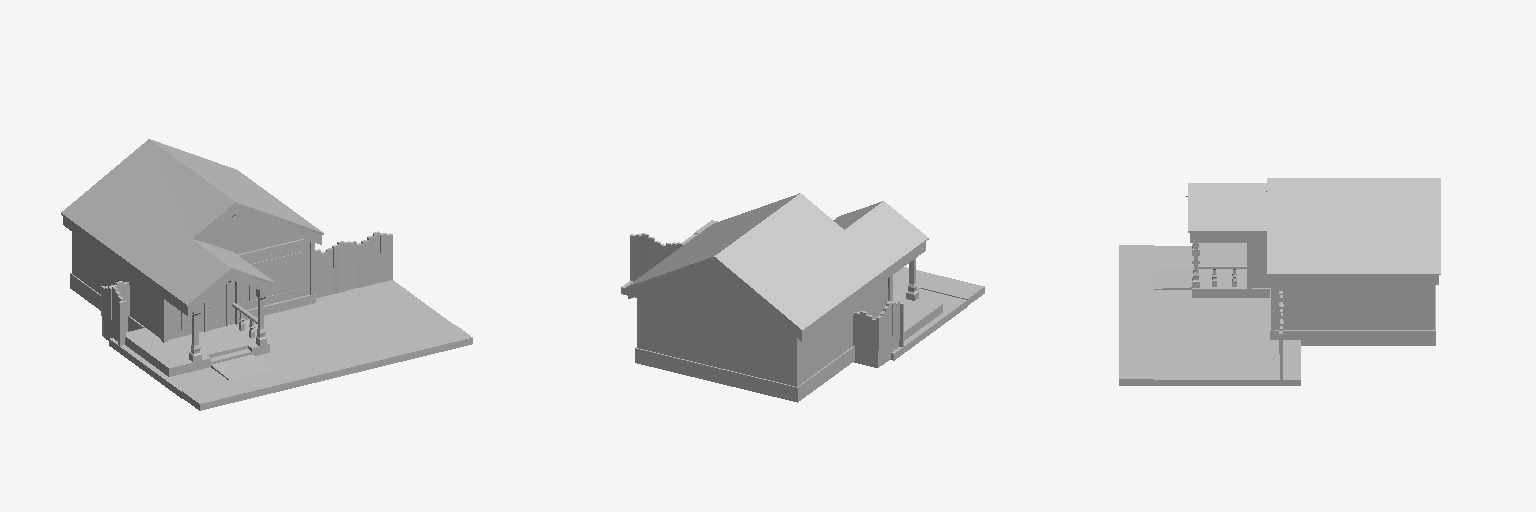
File: houseExterior.obj
3 renders of one model, left to right at view 1: azimuth 30°, elevation 25°; view 2: azimuth 150°, elevation 25°; view 3: azimuth 270°, elevation 25°, orthographic.
Parts seen in each view (by area): view 1: Cube.042, Cube.043, Cube.048, Cube.041, Cube.049, Cube.046, Cube.047, Cube.045, Cube.044; view 2: Cube.042, Cube.041, Cube.043, Cube.049, Cube.046, Cube.048; view 3: Cube.042, Cube.043, Cube.048, Cube.041, Cube.046, Cube.045.
Boxes of the visible parts, x1,y1,x2,y2 form: Cube.042: [61, 139, 323, 306]; Cube.043: [70, 273, 472, 410]; Cube.048: [110, 280, 453, 391]; Cube.041: [72, 214, 309, 339]; Cube.049: [101, 231, 392, 345]; Cube.046: [63, 204, 321, 342]; Cube.047: [183, 253, 302, 327]; Cube.045: [189, 289, 266, 362]; Cube.044: [207, 285, 225, 330]; Cube.042: [626, 193, 928, 331]; Cube.041: [637, 268, 887, 386]; Cube.043: [621, 220, 984, 402]; Cube.049: [630, 233, 903, 367]; Cube.046: [628, 242, 925, 341]; Cube.048: [622, 234, 966, 353]; Cube.042: [1188, 178, 1440, 274]; Cube.043: [1119, 243, 1435, 385]; Cube.048: [1154, 246, 1300, 379]; Cube.041: [1252, 243, 1434, 329]; Cube.046: [1186, 191, 1438, 330]; Cube.045: [1192, 243, 1246, 287].
Bounding box in the file's own units: 24.69 × 11.21 × 25.16.